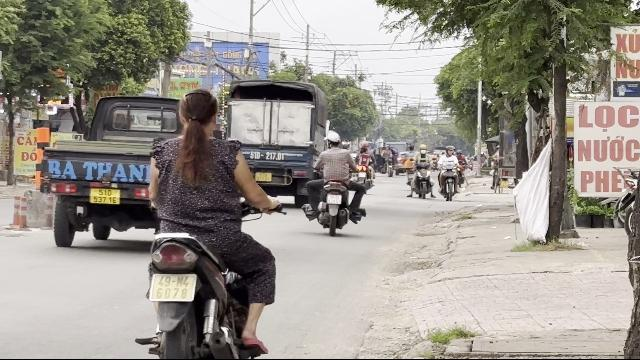helmet: (324, 130, 340, 146)
licenseplate: (148, 274, 194, 300), (326, 195, 342, 204)
motorcyclist: (136, 87, 284, 358), (313, 130, 363, 234)
nohelmet: (175, 88, 219, 132)
